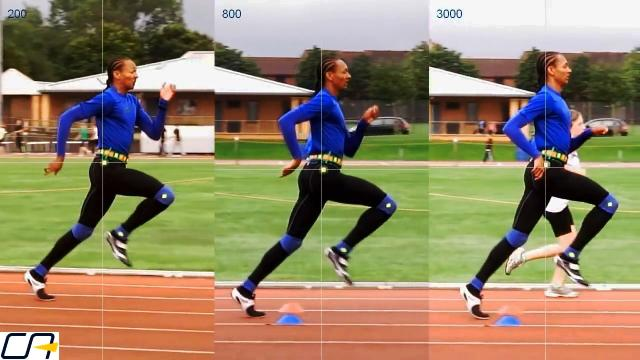berlari: (454, 48, 626, 342), (225, 45, 402, 322), (8, 49, 180, 301)
